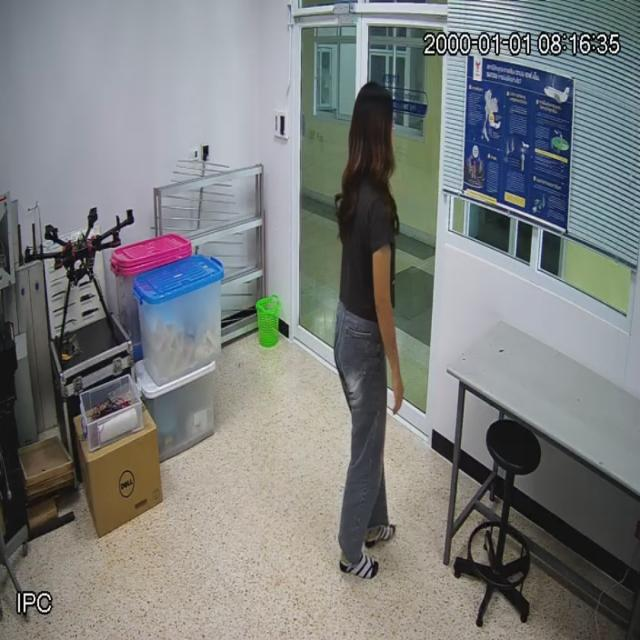normal: (332, 82, 407, 578)
